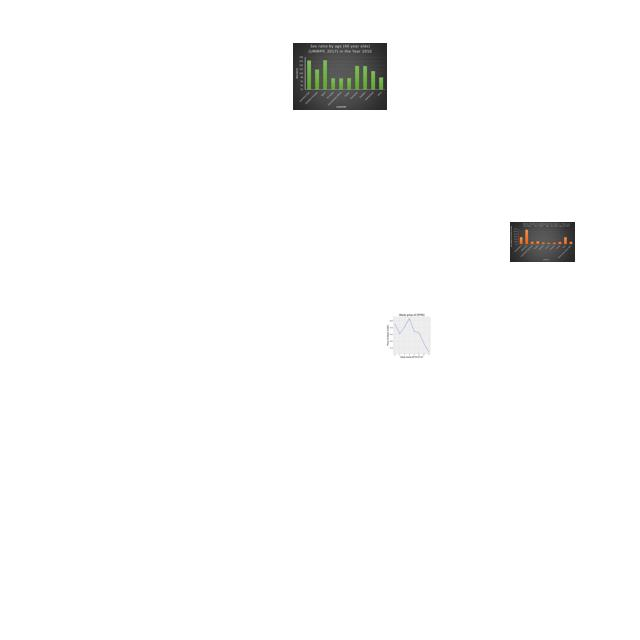Graph: (293, 43, 387, 110), (379, 311, 443, 359), (510, 222, 575, 262)
